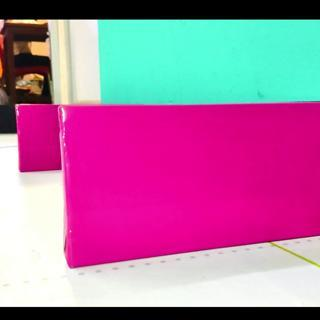xparking: (69, 106, 320, 268), (18, 107, 60, 172)
